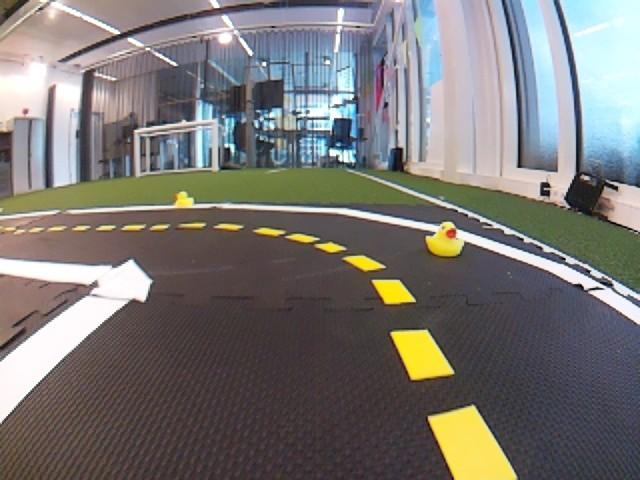Duckies: (425, 221, 464, 256), (174, 191, 194, 207)
